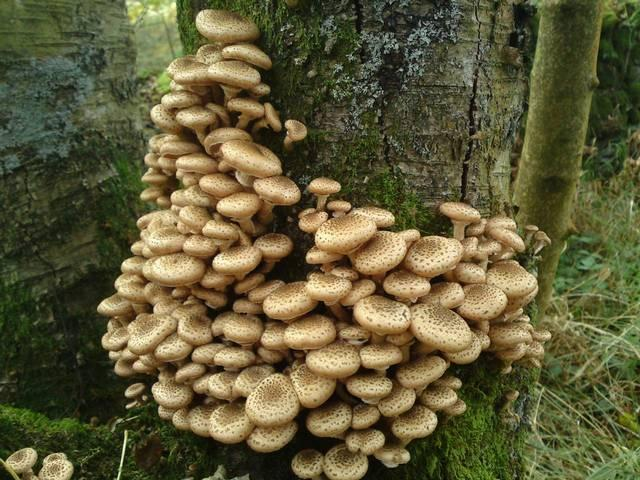edible_mushroom: (96, 7, 551, 479)
